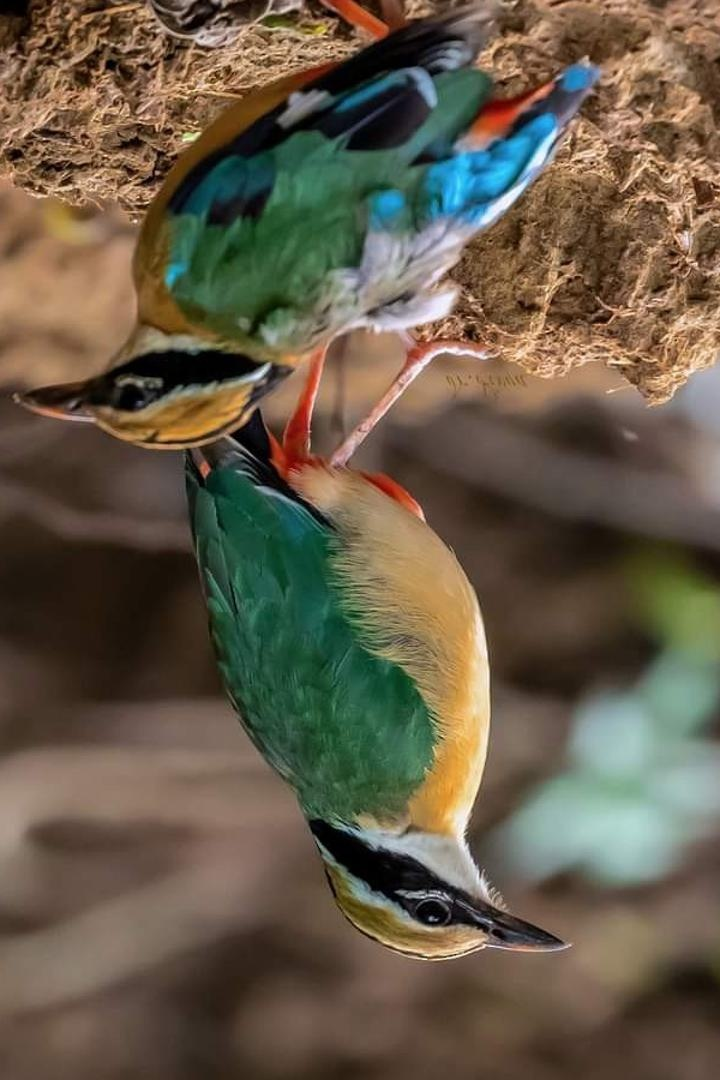pitta: (156, 395, 591, 973), (19, 60, 552, 460)
